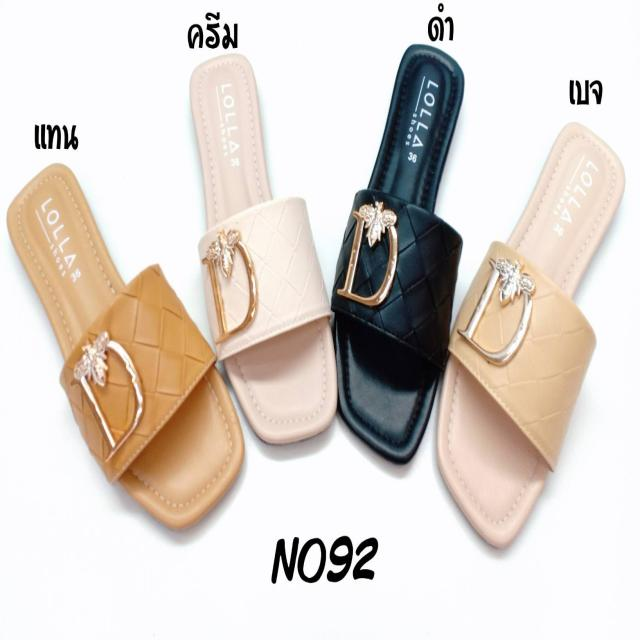bej: (434, 120, 622, 545)
blue: (333, 37, 466, 448)
cream: (194, 47, 335, 439)
tan: (7, 165, 250, 526)
